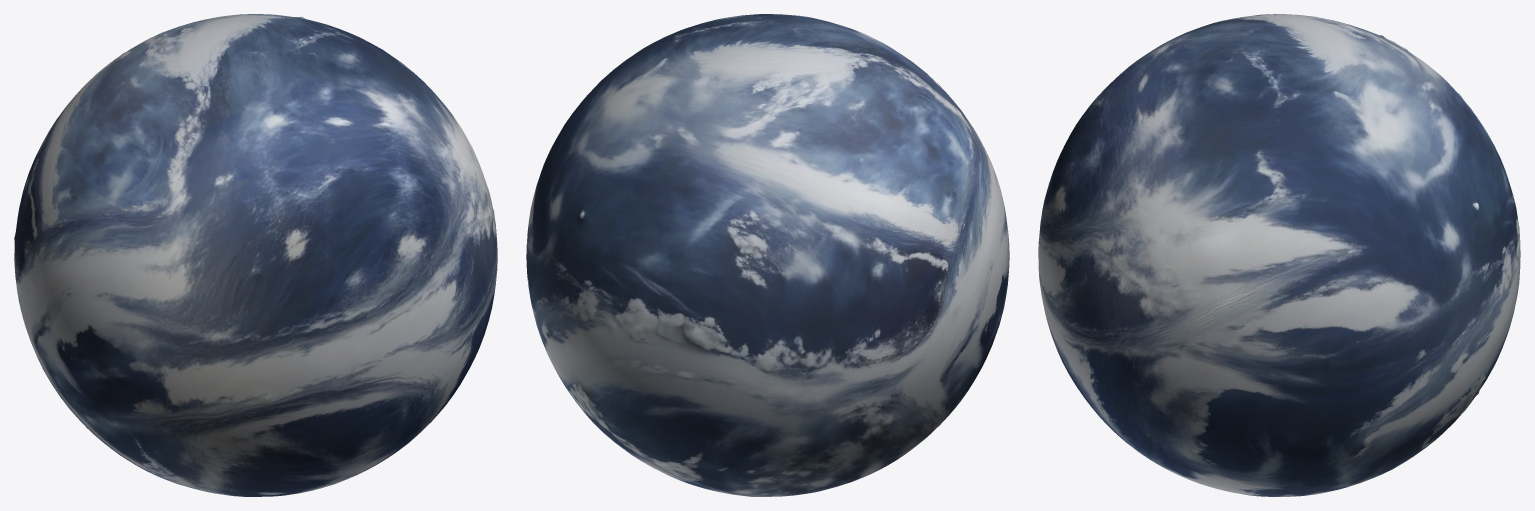
File: ice_planet_1.glb
3 renders of one model, left to right at view 1: azimuth 30°, elevation 25°; view 2: azimuth 150°, elevation 25°; view 3: azimuth 270°, elevation 25°, orthographic.
Visible parts, largest first — view 1: Mesh_0.026; view 2: Mesh_0.026; view 3: Mesh_0.026.
Part boxes in pixels (x1,y1,x2,y2): Mesh_0.026: (14,14,497,496); Mesh_0.026: (526,14,1009,496); Mesh_0.026: (1038,14,1520,496).
Size of the model in its own units: 2 by 2 by 2.
Materials: 1 (1 with a texture image).
